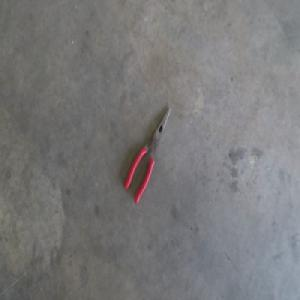Pliers: (123, 106, 171, 203)
